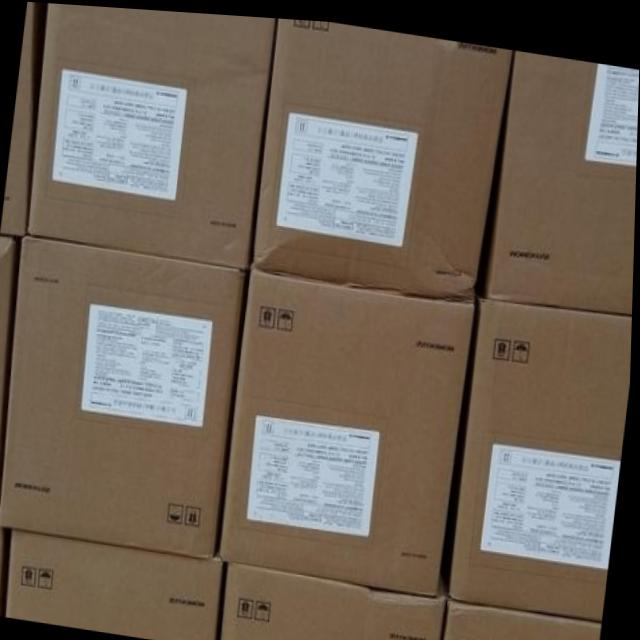box: (222, 263, 474, 590), (3, 235, 247, 553), (257, 15, 514, 289), (31, 3, 277, 266), (450, 293, 634, 611), (488, 46, 639, 307), (8, 528, 228, 640), (222, 557, 448, 640), (2, 1, 35, 238), (444, 596, 605, 640), (0, 234, 16, 489), (0, 525, 9, 614)
